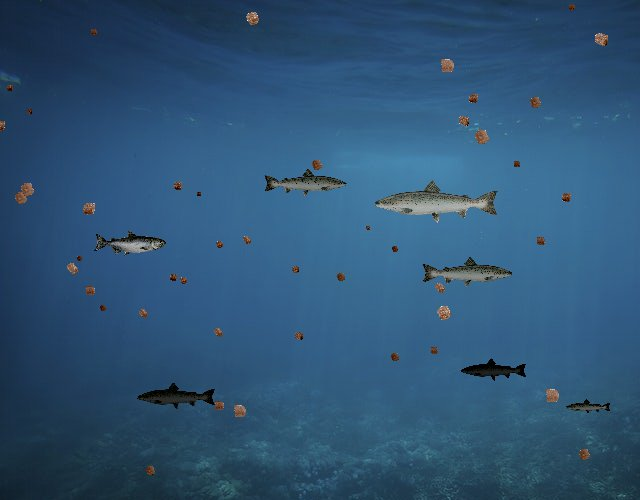Fish: (372, 178, 501, 224), (420, 255, 514, 289), (262, 167, 348, 198), (137, 381, 218, 410), (94, 230, 167, 257), (461, 357, 529, 382), (565, 399, 612, 415)
Pellet: (238, 4, 266, 32), (60, 256, 85, 281), (572, 443, 596, 467), (23, 105, 35, 117)
